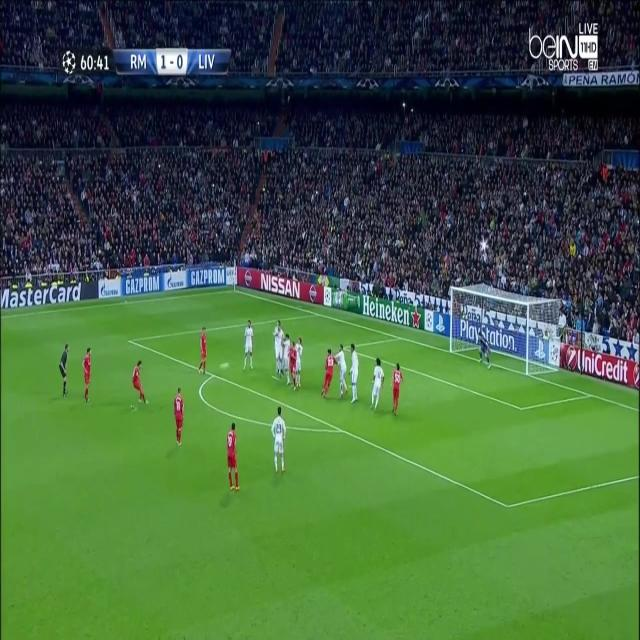Ball: (217, 357, 232, 378)
Goalkeeper: (477, 328, 494, 369)
Player: (225, 418, 243, 494), (270, 404, 288, 475), (130, 356, 152, 410), (368, 354, 387, 414), (334, 343, 351, 400), (390, 360, 405, 420), (241, 318, 256, 374), (195, 325, 210, 380), (81, 344, 94, 406), (172, 387, 185, 449), (319, 347, 334, 400), (349, 338, 360, 406), (273, 319, 284, 375), (281, 331, 291, 384), (288, 342, 298, 393), (296, 336, 306, 386)
Referee: (58, 341, 70, 400)
